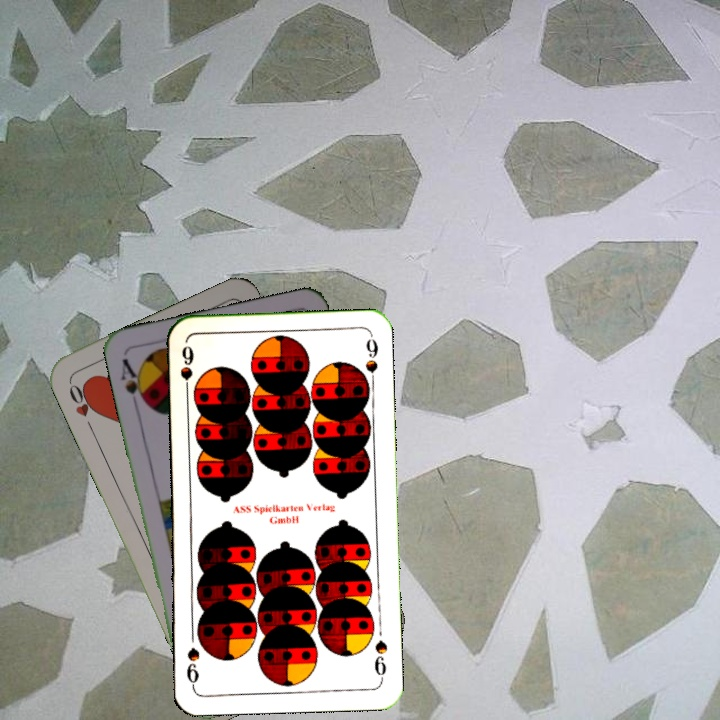HO: (65, 378, 101, 434)
S9: (176, 342, 196, 399), (370, 636, 390, 683)
SA: (116, 354, 150, 411)
